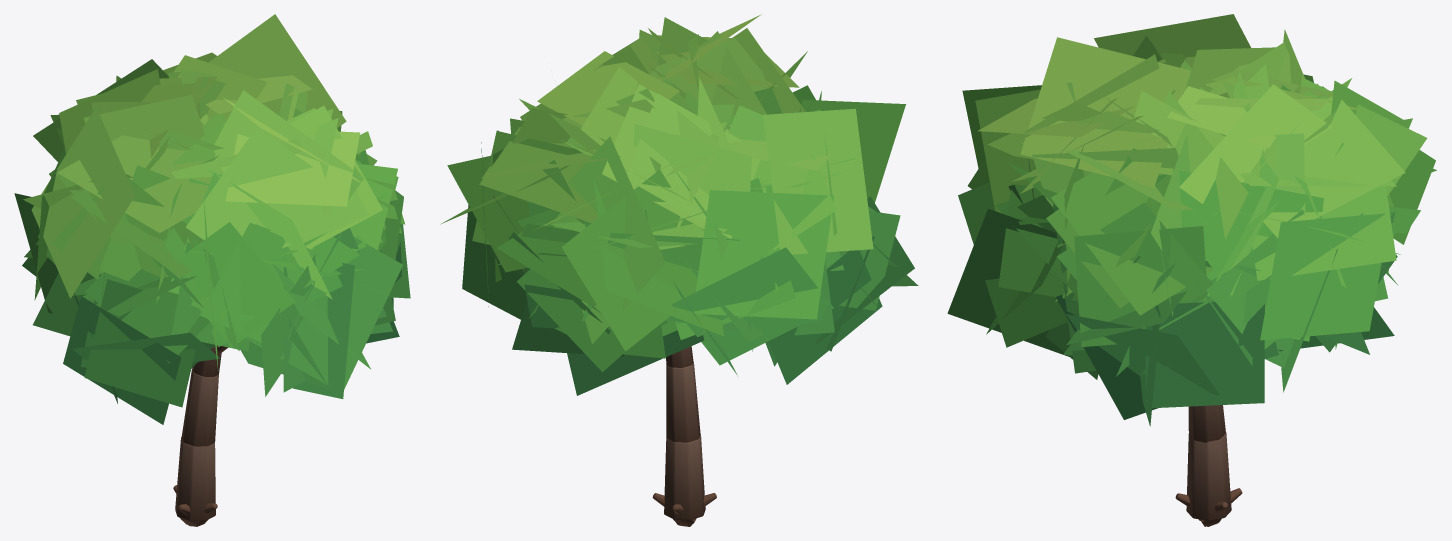
The model's file is tree_round_b.glb.
3 renders of one model, left to right at view 1: azimuth 30°, elevation 25°; view 2: azimuth 150°, elevation 25°; view 3: azimuth 270°, elevation 25°, orthographic. The views are drawn at different scales.
Visible parts, largest first — view 1: Leaves, Tree; view 2: Leaves, Tree; view 3: Leaves, Tree.
Part boxes in pixels (x1,y1,x2,y2): Leaves: (14, 14, 410, 424); Tree: (173, 345, 228, 526); Leaves: (440, 14, 918, 395); Tree: (652, 346, 716, 526); Leaves: (947, 14, 1436, 426); Tree: (1175, 405, 1242, 526).
Bounding box in the file's own units: 5.28 × 6.41 × 5.73.
